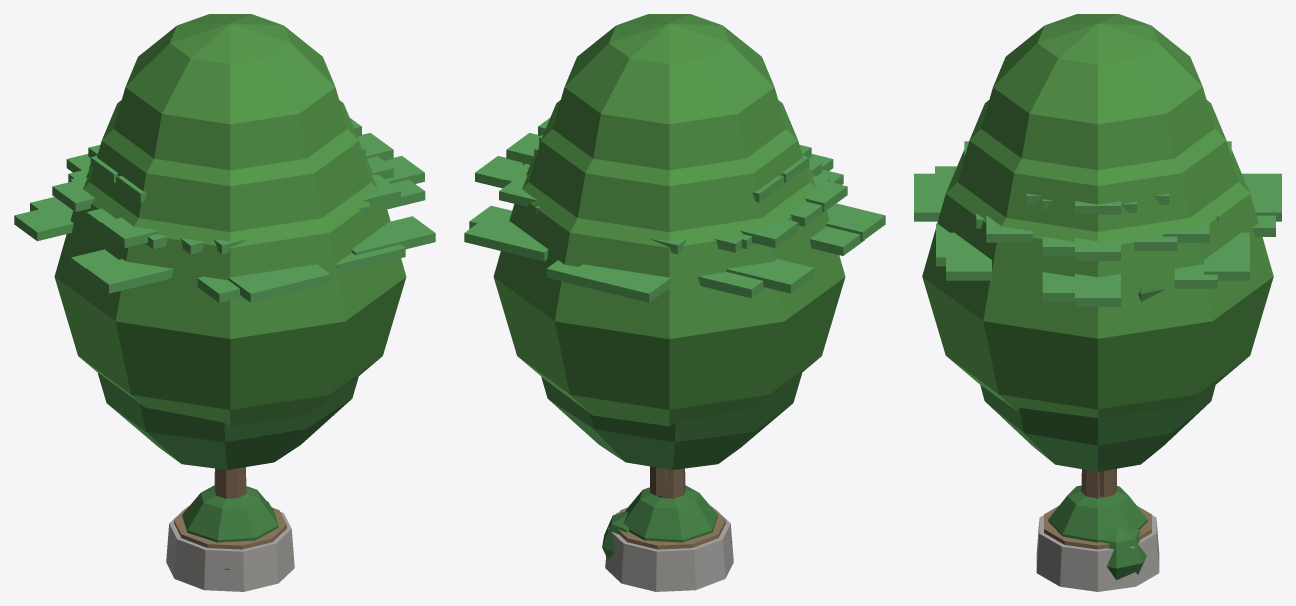
File: Nature_All.fbx
3 renders of one model, left to right at view 1: azimuth 30°, elevation 25°; view 2: azimuth 150°, elevation 25°; view 3: azimuth 270°, elevation 25°, orthographic.
Visible parts, largest first — view 1: SM_Tree_A_cm, SM_Palm_A_cm, SM_Tree_B_cm, SM_Tree_Planter_cm, SM_Bush_cm; view 2: SM_Tree_A_cm, SM_Palm_A_cm, SM_Tree_B_cm, SM_Tree_Planter_cm, SM_Bush_cm; view 3: SM_Tree_A_cm, SM_Palm_A_cm, SM_Tree_B_cm, SM_Tree_Planter_cm, SM_Bush_cm.
Part boxes in pixels (x1,y1,x2,y2): SM_Tree_A_cm: (54, 14, 406, 498); SM_Palm_A_cm: (14, 118, 435, 302); SM_Tree_B_cm: (97, 372, 358, 469); SM_Tree_Planter_cm: (166, 506, 294, 591); SM_Bush_cm: (182, 485, 278, 569); SM_Tree_A_cm: (493, 14, 845, 498); SM_Palm_A_cm: (464, 118, 885, 496); SM_Tree_B_cm: (541, 372, 802, 469); SM_Tree_Planter_cm: (605, 506, 733, 591); SM_Bush_cm: (602, 485, 732, 559); SM_Tree_A_cm: (922, 14, 1273, 498); SM_Palm_A_cm: (914, 141, 1281, 496); SM_Tree_B_cm: (980, 287, 1215, 471); SM_Tree_Planter_cm: (1036, 506, 1159, 591); SM_Bush_cm: (1048, 485, 1147, 580).
Size of the model in its own units: 598 by 659 by 1000.
